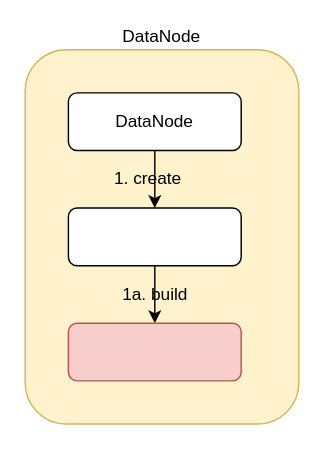
Some shapes in this 324 by 449 pixel diagram are drawn without their labels. The shapes that lost their labels are listed below. From the top down, each one's centre as x and y in pixels, then its label:
the point at 154,236: RPC.Builder
the point at 154,351: RPC.Server （50020）
